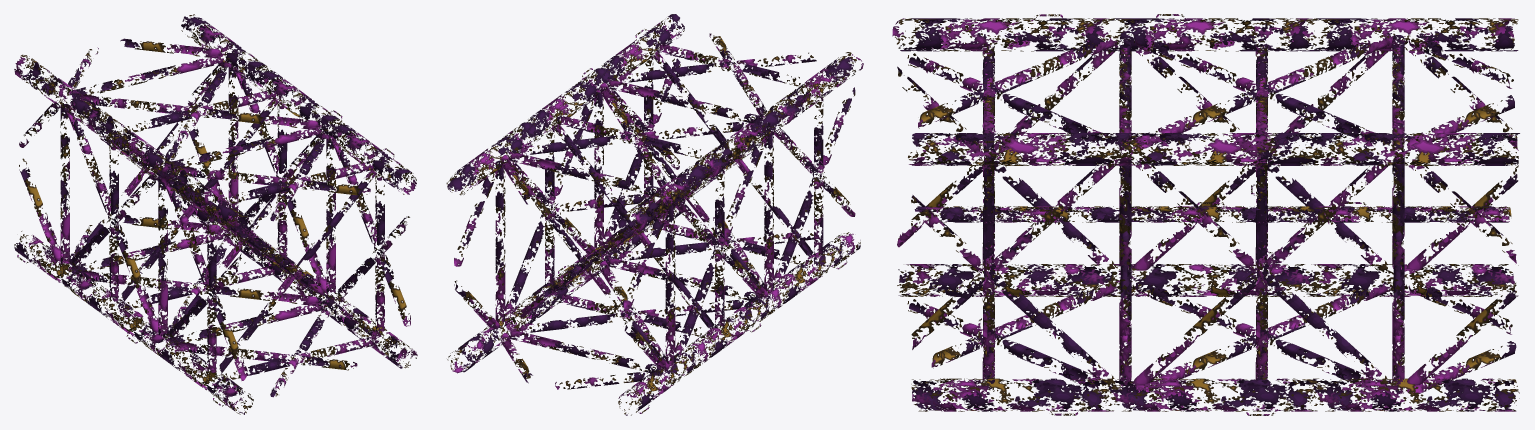
Rendered from oilRig_dream_b.fbx.
The picture shows the model from 3 angles, left to right: view 1: azimuth 30°, elevation 25°; view 2: azimuth 150°, elevation 25°; view 3: azimuth 270°, elevation 25°; orthographic projection. The views are drawn at different scales.
Visible parts, largest first — view 1: oilrigpier01; view 2: oilrigpier01; view 3: oilrigpier01.
Boxes of the visible parts, x1=… form: oilrigpier01: x1=14, y1=14, x2=417, y2=414; oilrigpier01: x1=446, y1=14, x2=863, y2=415; oilrigpier01: x1=892, y1=14, x2=1519, y2=415.
Bounding box in the file's own units: 2807 × 2807 × 5790.
